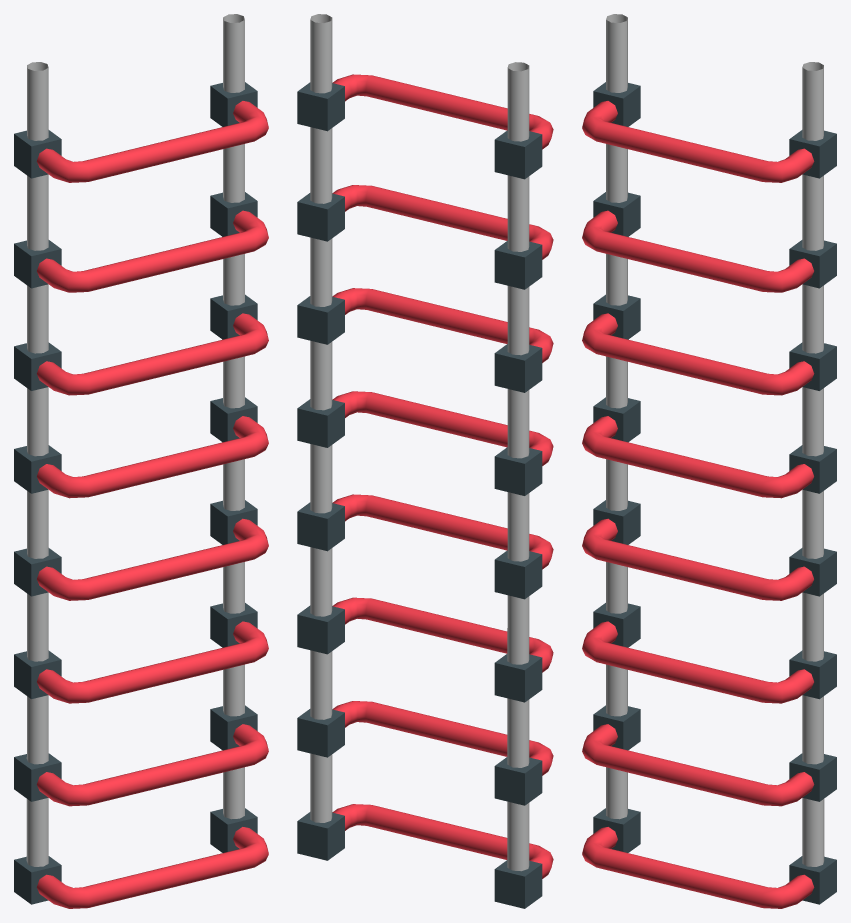
File: Ladder_001.glb
3 views of the same model, side by side, from view 1: azimuth 30°, elevation 25°; view 2: azimuth 150°, elevation 25°; view 3: azimuth 330°, elevation 25° (orthographic).
Parts seen in each view (by area): view 1: Ladder_001; view 2: Ladder_001; view 3: Ladder_001.
Part boxes in pixels (x1,y1,x2,y2): Ladder_001: (14,14,268,908); Ladder_001: (297,14,553,908); Ladder_001: (582,14,836,908).
Bounding box in the file's own units: 1.15 × 4.03 × 0.4042.
Materials: 1 (1 with a texture image).
